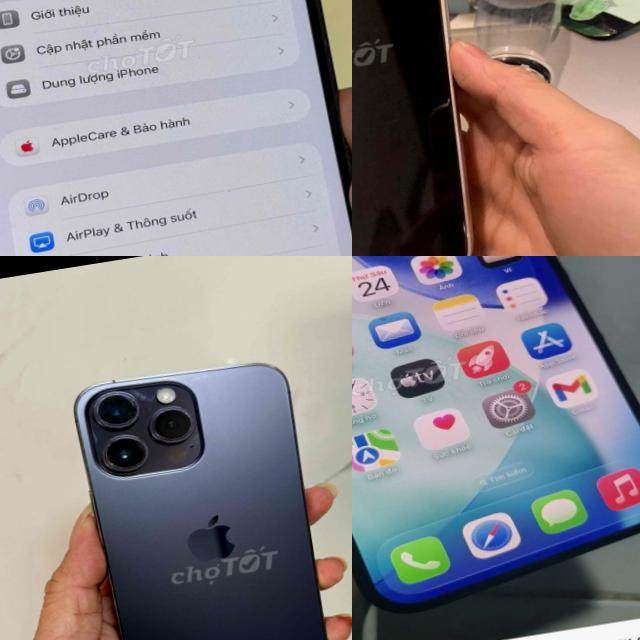gen_12_13: (0, 0, 352, 256), (352, 0, 492, 256)
gen_14: (56, 351, 352, 640)
gen_16: (352, 256, 640, 611)
